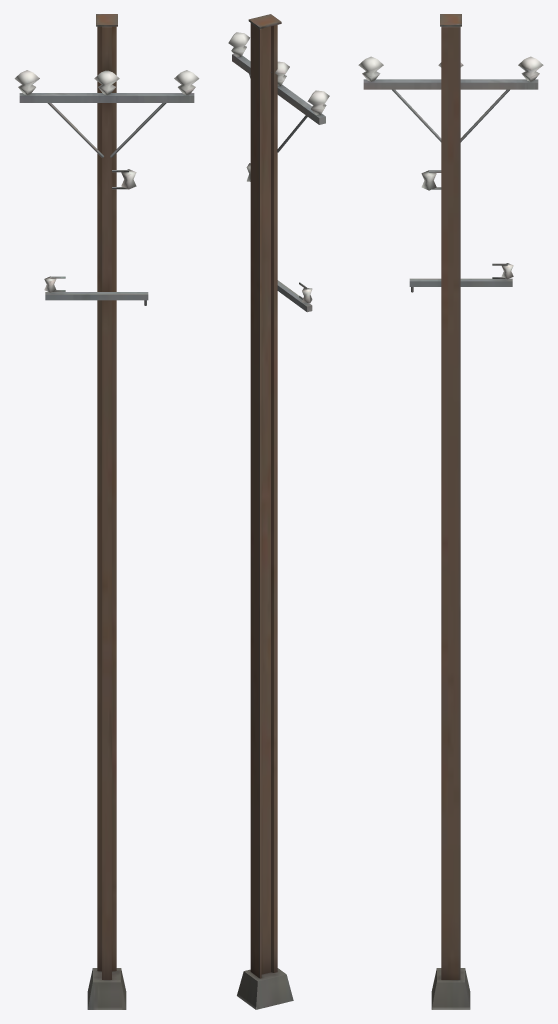
File: pole_rail.glb
The picture shows the model from 3 angles, left to right: view 1: azimuth 90°, elevation 25°; view 2: azimuth 210°, elevation 25°; view 3: azimuth 270°, elevation 25°; orthographic projection.
Visible parts, largest first — view 1: pole_rail; view 2: pole_rail; view 3: pole_rail.
Part boxes in pixels (x1,y1,x2,y2): pole_rail: [14, 14, 199, 1009]; pole_rail: [228, 14, 329, 1009]; pole_rail: [358, 14, 543, 1009].
Size of the model in its own units: 1.97 by 42.08 by 7.2.
Materials: 1 (1 with a texture image).
